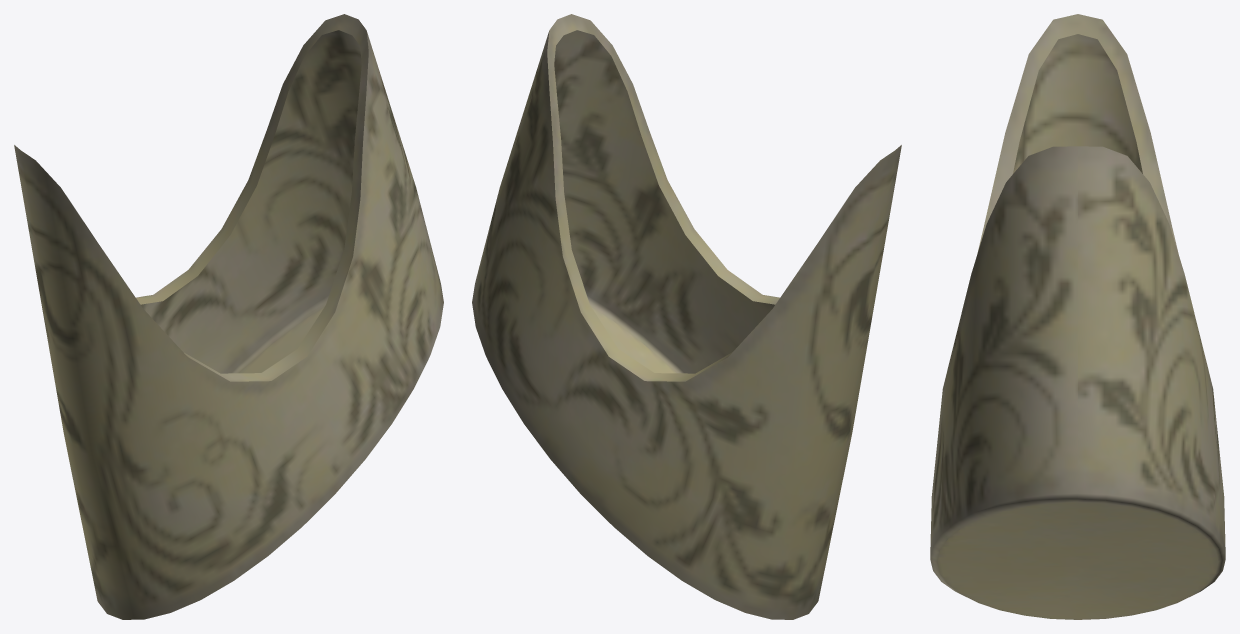
Rendered from wm_rivendell_sword_a01_pommel.fbx.
3 renders of one model, left to right at view 1: azimuth 30°, elevation 25°; view 2: azimuth 150°, elevation 25°; view 3: azimuth 270°, elevation 25°, orthographic. The views are drawn at different scales.
Parts seen in each view (by area): view 1: wm_rivendell_sword_a01_pommel; view 2: wm_rivendell_sword_a01_pommel; view 3: wm_rivendell_sword_a01_pommel.
Part boxes in pixels (x1,y1,x2,y2): wm_rivendell_sword_a01_pommel: (14, 14, 443, 619); wm_rivendell_sword_a01_pommel: (472, 14, 901, 619); wm_rivendell_sword_a01_pommel: (930, 14, 1225, 619).
Bounding box in the file's own units: 0.0526 × 0.0288 × 0.0654.
Materials: 1 (1 with a texture image).
